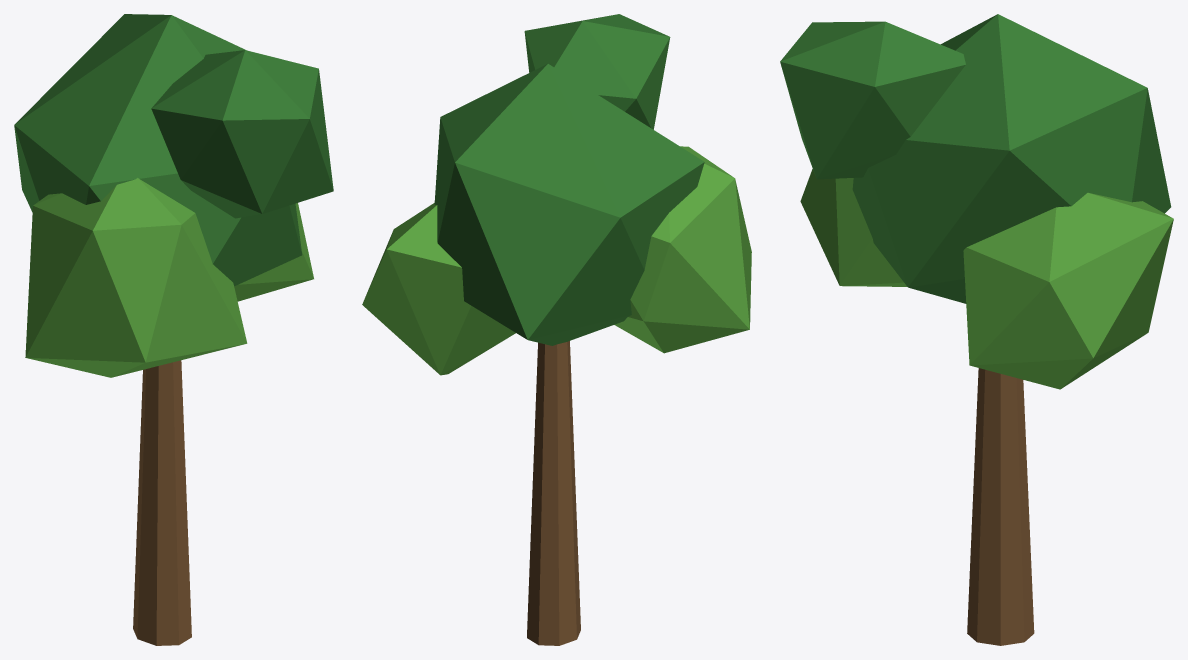
File: tree.glb
3 renders of one model, left to right at view 1: azimuth 30°, elevation 25°; view 2: azimuth 150°, elevation 25°; view 3: azimuth 270°, elevation 25°, orthographic. The views are drawn at different scales.
Parts seen in each view (by area): view 1: tree_canopy, tree_trunk-col; view 2: tree_canopy, tree_trunk-col; view 3: tree_canopy, tree_trunk-col.
Boxes of the visible parts, x1=… form: tree_canopy: x1=14, y1=14, x2=333, y2=377; tree_trunk-col: x1=133, y1=360, x2=191, y2=645; tree_canopy: x1=362, y1=14, x2=751, y2=375; tree_trunk-col: x1=527, y1=341, x2=580, y2=645; tree_canopy: x1=780, y1=14, x2=1173, y2=389; tree_trunk-col: x1=967, y1=368, x2=1034, y2=645.
Bounding box in the file's own units: 2 × 3.5 × 2.
